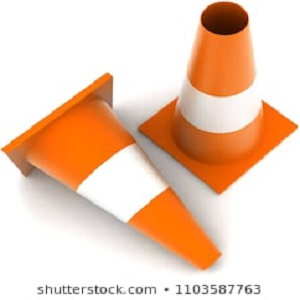traffic cone: (1, 72, 223, 270), (138, 1, 297, 194)
